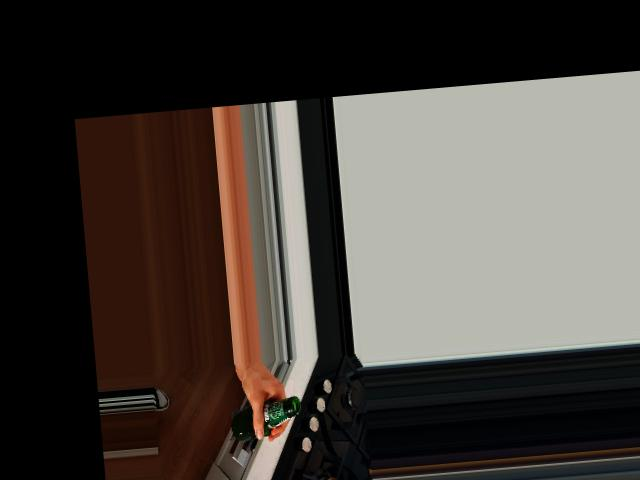beer: (229, 395, 303, 441)
